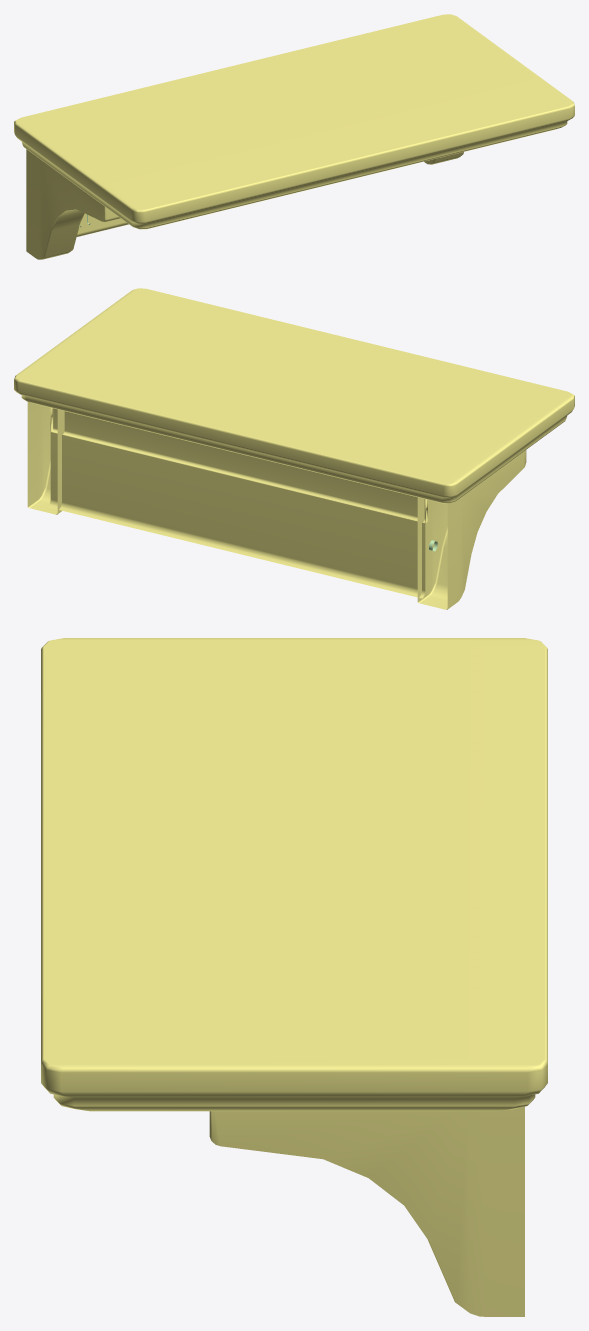
File: Shelf_Full.fbx
3 views of the same model, one above another, from view 1: azimuth 30°, elevation 25°; view 2: azimuth 150°, elevation 25°; view 3: azimuth 270°, elevation 25° (orthographic). The views are drawn at different scales.
Parts seen in each view (by area): view 1: ShelfTop, ShelfArm, ShelfBack; view 2: ShelfTop, ShelfBack, ShelfArm, ShelfArm1; view 3: ShelfTop, ShelfArm1.
Part boxes in pixels (x1,y1,x2,y2): ShelfTop: (14,14,574,229); ShelfArm: (26,149,120,259); ShelfBack: (76,213,128,236); ShelfTop: (14,288,574,503); ShelfBack: (48,408,427,598); ShelfArm: (417,450,526,609); ShelfArm1: (27,402,64,514); ShelfTop: (41,638,547,1111); ShelfArm1: (209,1106,524,1316).
Size of the model in its own units: 1761 by 497 by 874.
